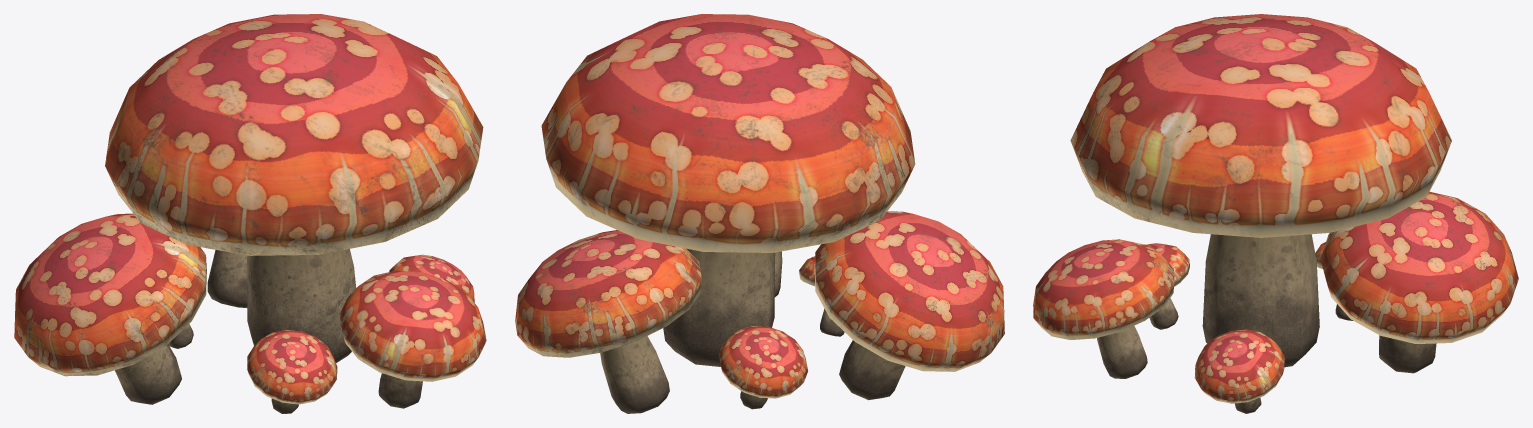
File: VEG0110002.fbx
3 renders of one model, left to right at view 1: azimuth 30°, elevation 25°; view 2: azimuth 150°, elevation 25°; view 3: azimuth 270°, elevation 25°, orthographic.
Parts seen in each view (by area): view 1: smVEG0110002; view 2: smVEG0110002; view 3: smVEG0110002.
Part boxes in pixels (bbox=[...]): smVEG0110002: bbox=[14, 14, 486, 413]; smVEG0110002: bbox=[515, 14, 1004, 413]; smVEG0110002: bbox=[1033, 14, 1518, 413].
Bounding box in the file's own units: 40.1 × 28.58 × 39.1.
1 material, 1 textured.
